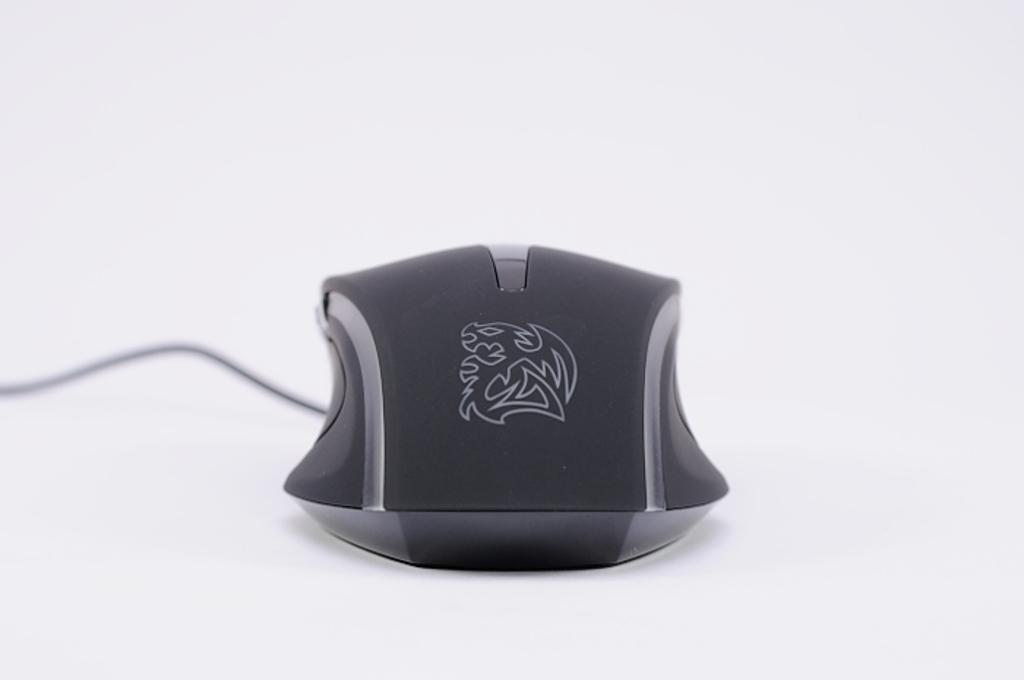Computer-mouse: (279, 233, 731, 572)
